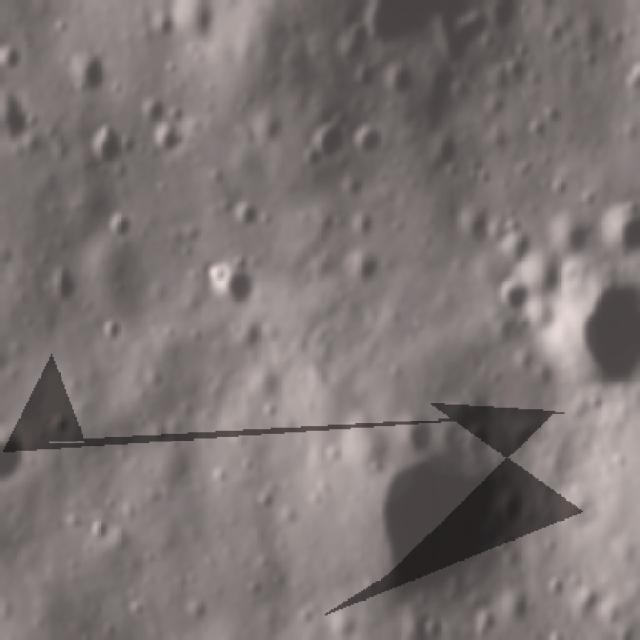crater: (348, 416, 532, 619), (547, 250, 640, 417), (349, 0, 488, 58), (542, 209, 602, 271), (300, 114, 352, 175), (213, 261, 270, 316), (595, 202, 640, 269), (162, 0, 219, 52), (0, 424, 38, 497), (487, 270, 539, 322), (490, 223, 539, 274), (84, 122, 128, 176), (65, 52, 112, 102), (0, 84, 35, 147), (149, 119, 197, 164), (350, 114, 387, 164), (44, 269, 82, 309), (99, 206, 135, 248), (387, 67, 418, 104), (100, 314, 129, 351), (138, 92, 164, 130), (0, 39, 26, 76), (180, 595, 206, 628), (348, 66, 374, 96), (203, 629, 243, 640)
